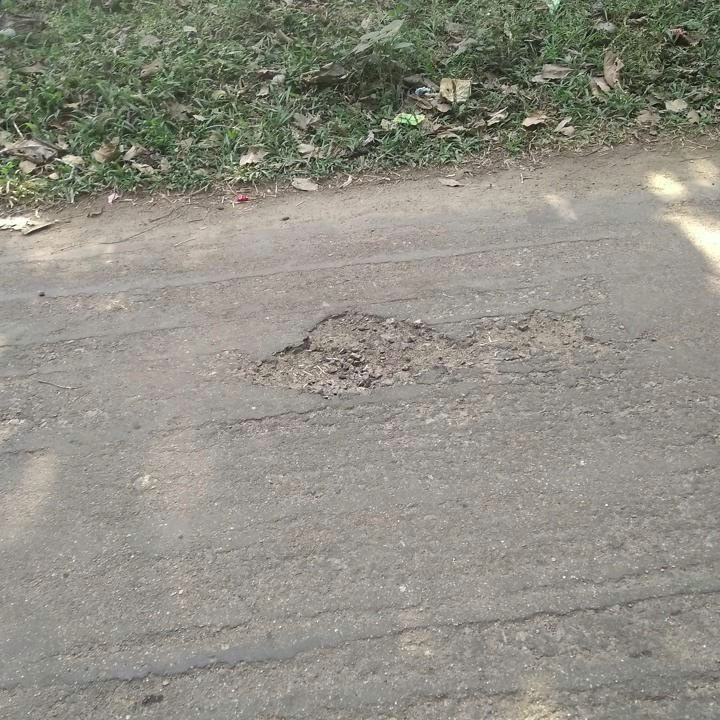pothole: (239, 302, 598, 396)
